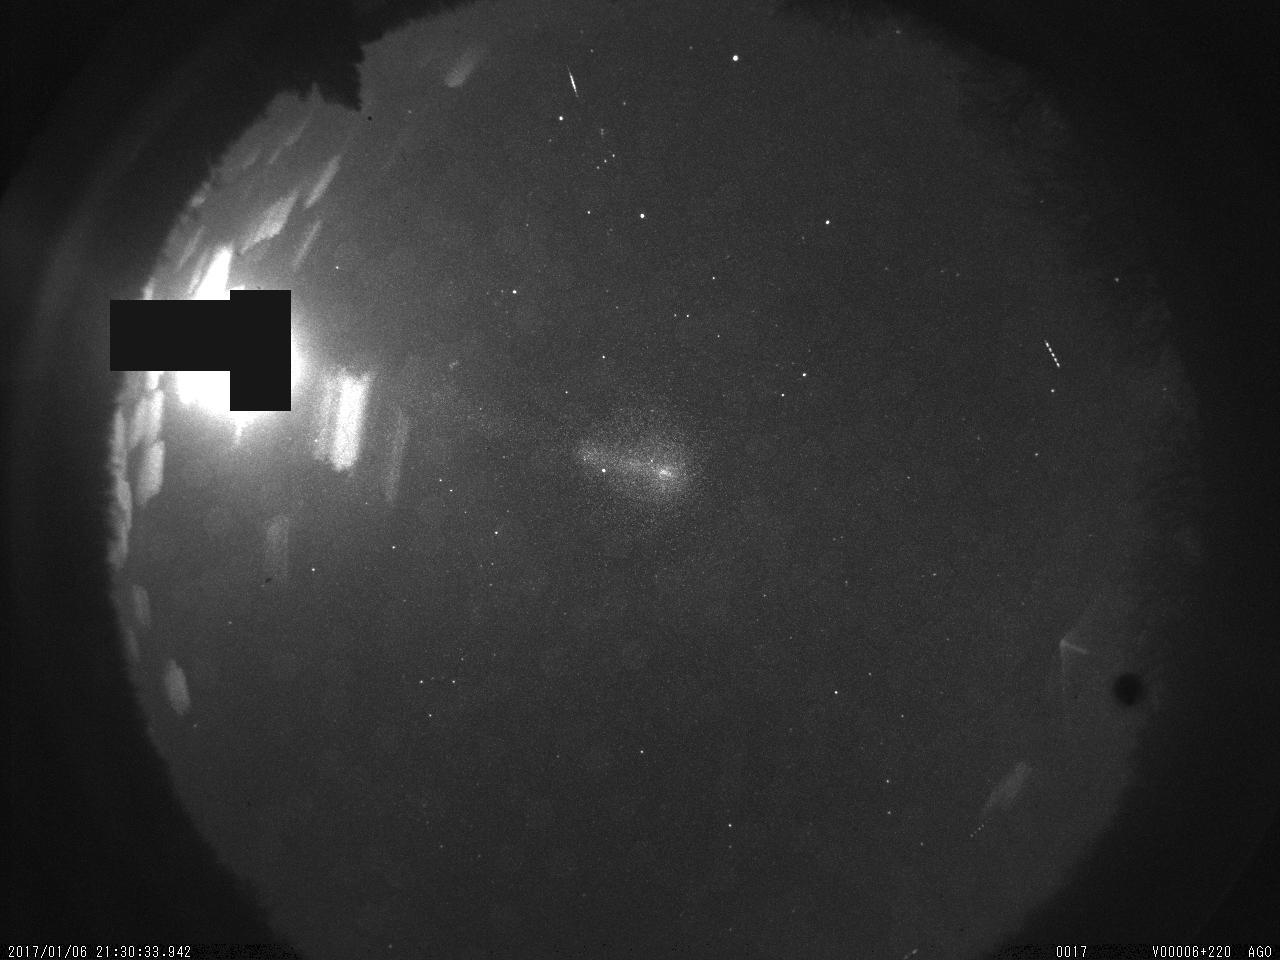meteor: (559, 57, 587, 104)
